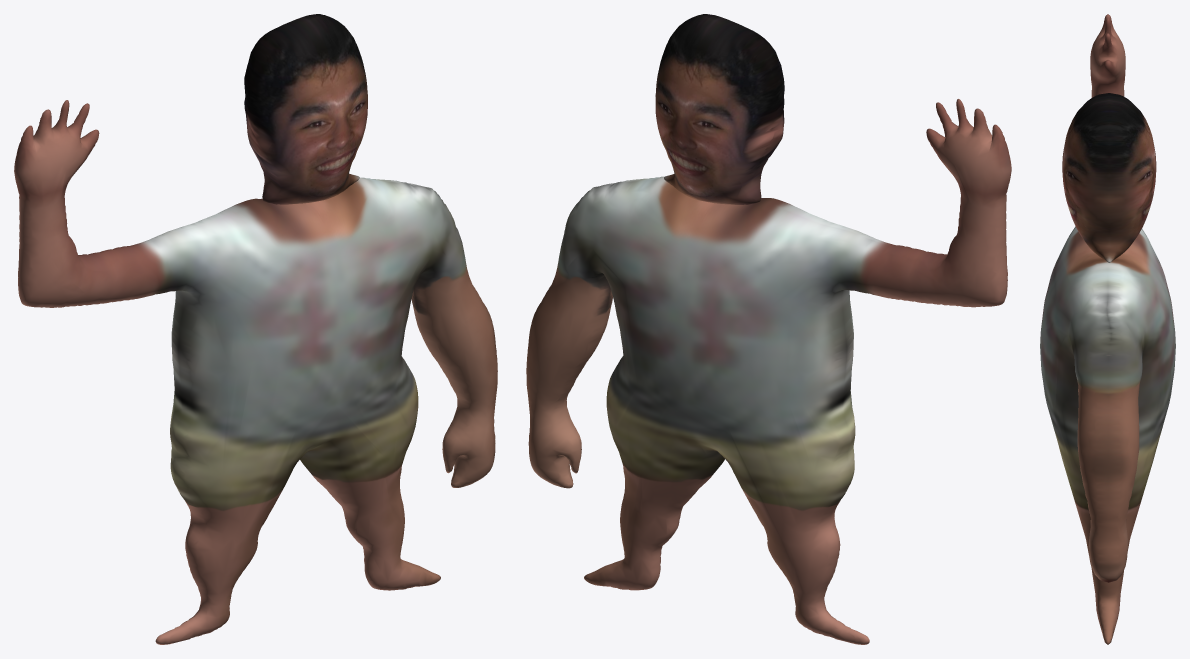
Rendered from kian.glb.
3 views of the same model, side by side, from view 1: azimuth 30°, elevation 25°; view 2: azimuth 150°, elevation 25°; view 3: azimuth 270°, elevation 25° (orthographic). The views are drawn at different scales.
Parts seen in each view (by area): view 1: mm_frame; view 2: mm_frame; view 3: mm_frame.
Part boxes in pixels (x1=…): mm_frame: x1=14, y1=14, x2=497, y2=644; mm_frame: x1=526, y1=14, x2=1011, y2=644; mm_frame: x1=1040, y1=14, x2=1175, y2=644.
Size of the model in its own units: 6.33 by 7.53 by 1.87.
1 material, 1 textured.
